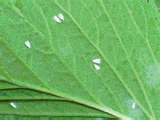whitefly: (57, 12, 65, 21), (24, 39, 31, 48), (53, 16, 62, 23), (93, 64, 100, 70), (92, 58, 100, 63)
